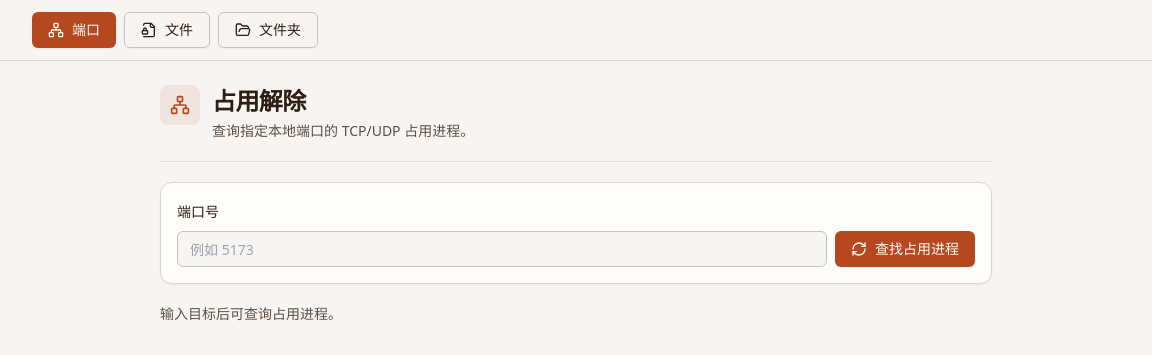
Test: Windows process tools › rejects port zero before looking up an owner
Type "0" into the field labelled "端口号" at point(502, 249), box [177,231,827,267]
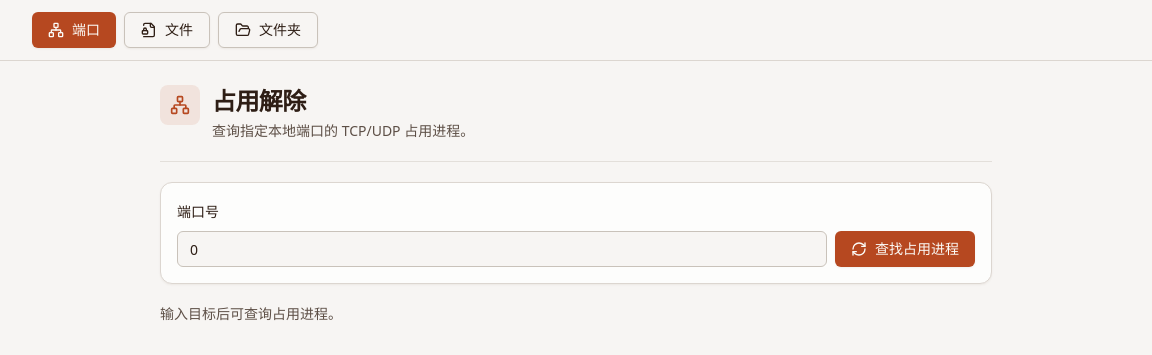
Click the button "查找占用进程" at point(905, 249), box [835,231,975,267]
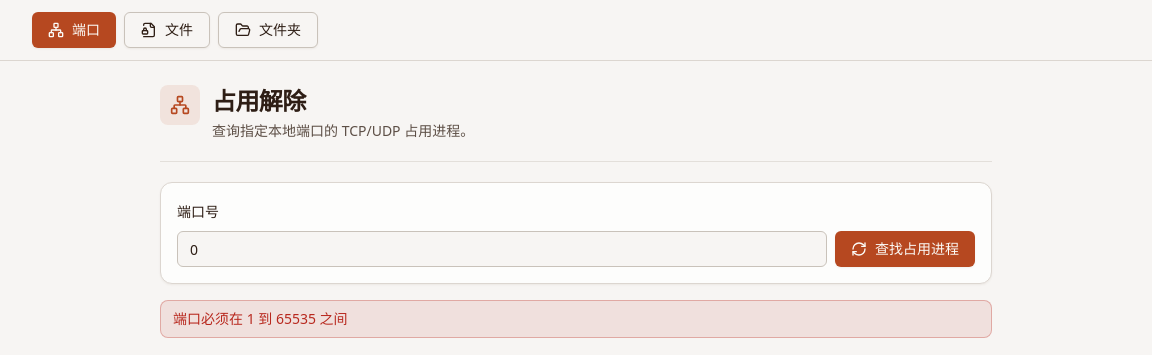
Check: the text "端口必须在 1 到 65535 之间" is shown, box [160,300,992,338]
